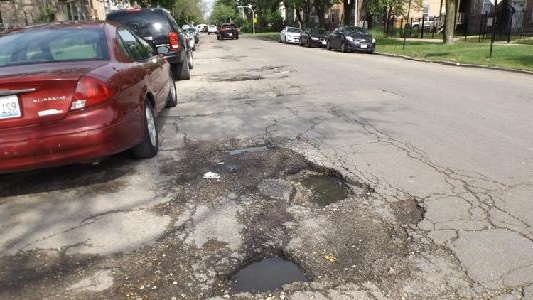pothole: (276, 159, 375, 211), (220, 246, 316, 293), (386, 197, 428, 225), (222, 72, 264, 81), (200, 168, 224, 181)
